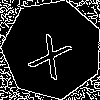X: (27, 24, 79, 81)
